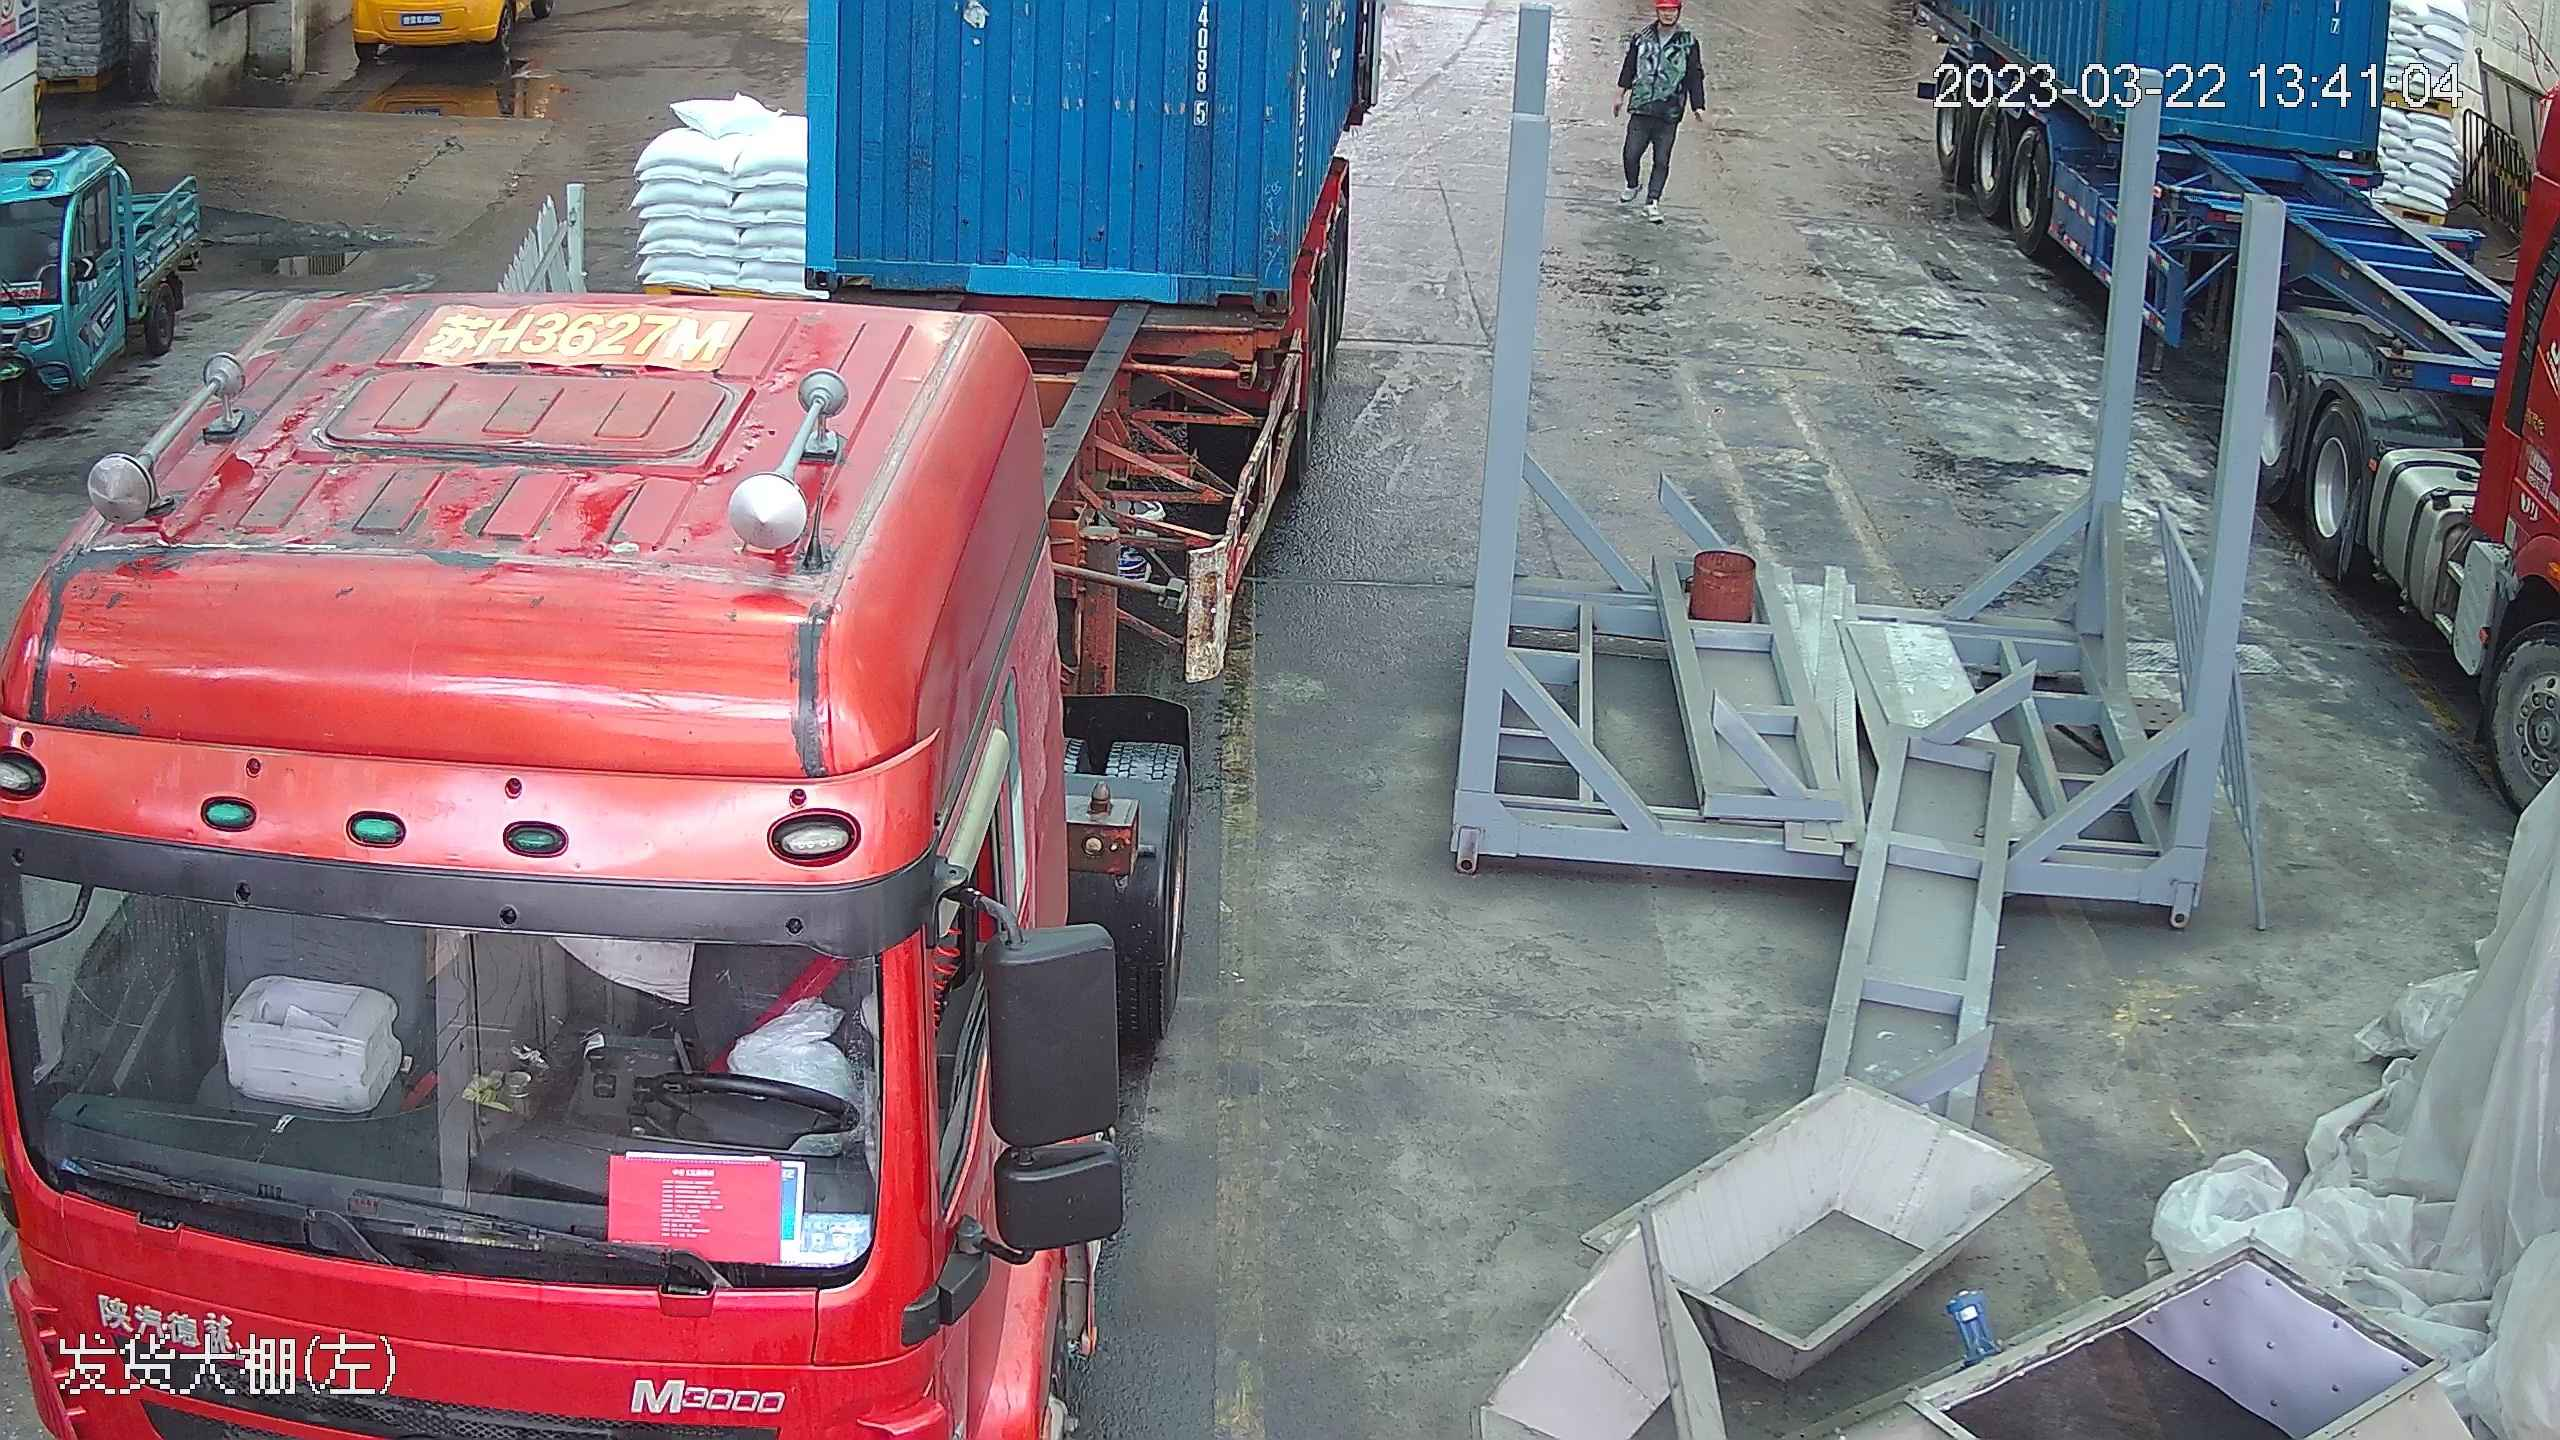head: (1628, 0, 1698, 58)
helmet: (1646, 0, 1685, 22)
people: (1612, 0, 1704, 208)
truck: (0, 77, 1268, 1440)
